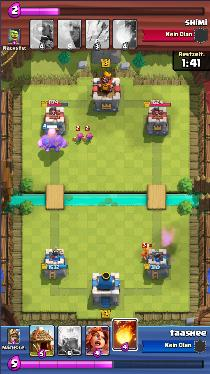ally_giant: (37, 128, 68, 152)
enemy_archer: (81, 133, 93, 143), (72, 133, 83, 143)
enemy_goblin: (141, 247, 153, 259)
